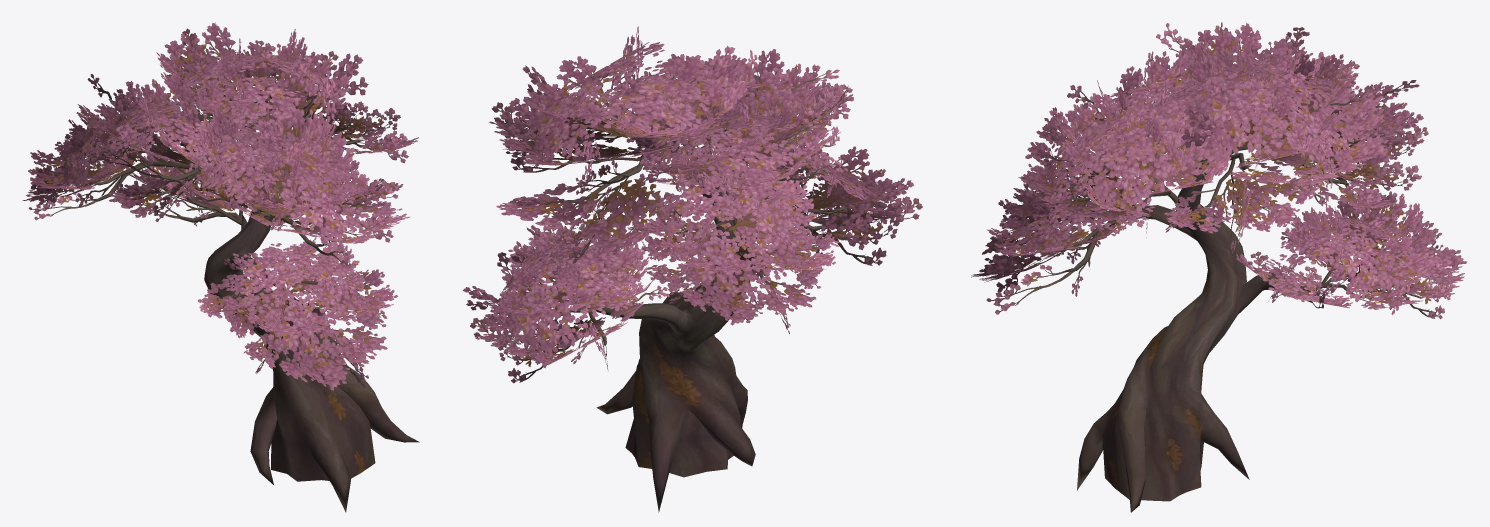
3 renders of one model, left to right at view 1: azimuth 30°, elevation 25°; view 2: azimuth 150°, elevation 25°; view 3: azimuth 270°, elevation 25°, orthographic. The views are drawn at different scales.
Size of the model in its own units: 12.61 by 14.58 by 15.47.
Materials: 2 (2 with a texture image).
